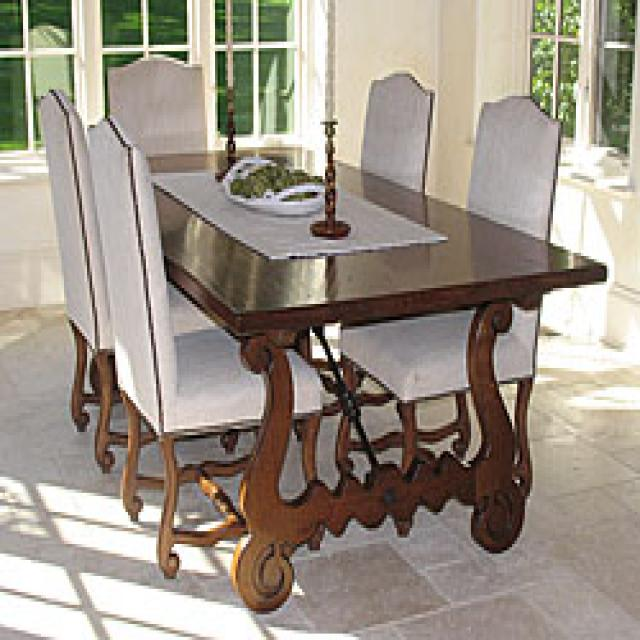table: (118, 142, 610, 620)
